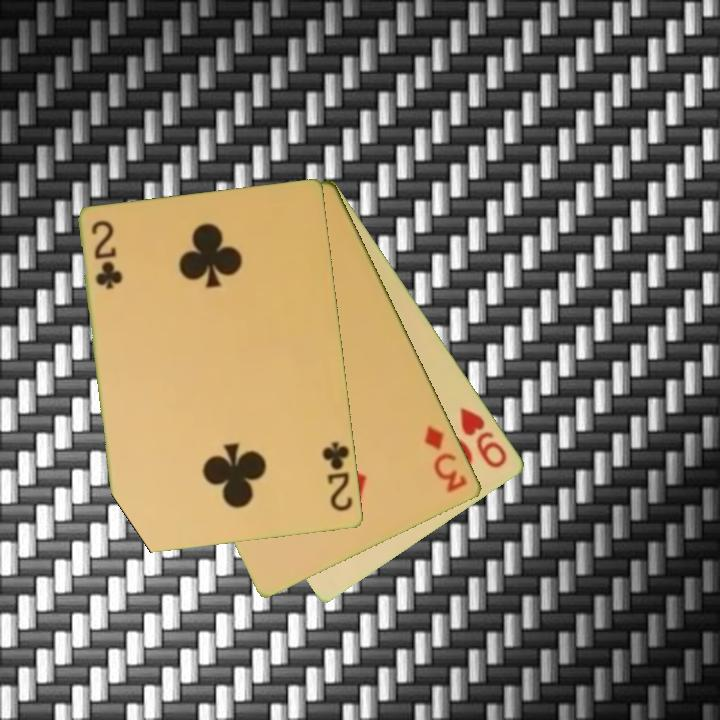2c: (319, 438, 356, 515), (88, 217, 124, 293)
3d: (421, 422, 470, 496)
9h: (457, 404, 511, 472)
